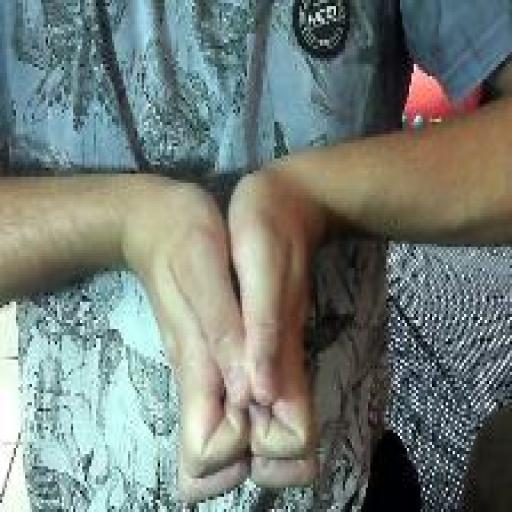I -boar-: (145, 164, 324, 506)
